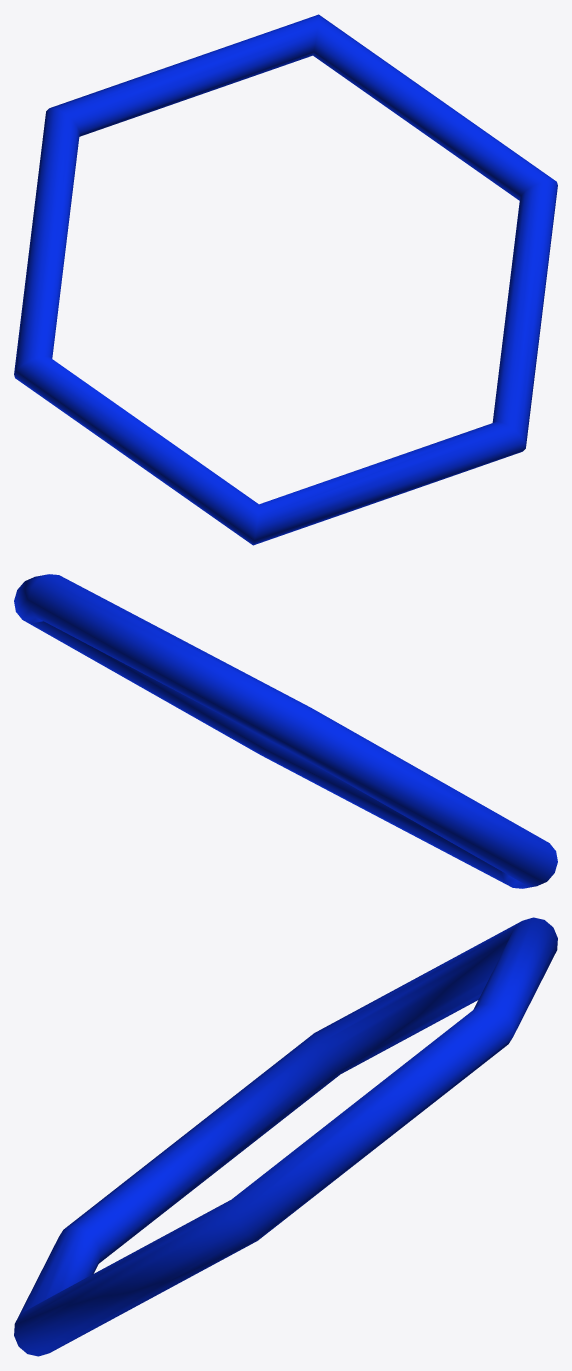
File: hydrogen_ring_2.gltf
3 views of the same model, one above another, from view 1: azimuth 30°, elevation 25°; view 2: azimuth 150°, elevation 25°; view 3: azimuth 270°, elevation 25° (orthographic). The views are drawn at different scales.
Visible parts, largest first — view 1: Torus.002; view 2: Torus.002; view 3: Torus.002.
Boxes of the visible parts, box(x1,y1,x2,y2) form: Torus.002: box(14, 14, 557, 545); Torus.002: box(14, 574, 557, 888); Torus.002: box(14, 917, 557, 1356).
Size of the model in its own units: 6.93 by 4.48 by 5.49.
